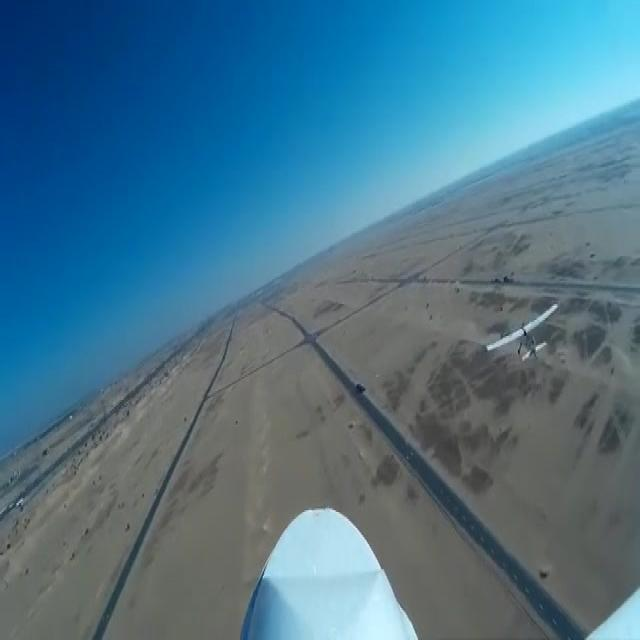iha: (515, 303, 517, 363)
